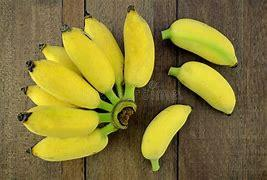banana: (19, 7, 252, 173), (9, 97, 109, 155), (165, 11, 246, 65), (69, 13, 128, 87), (119, 10, 165, 94), (166, 55, 231, 113), (138, 99, 193, 166)
